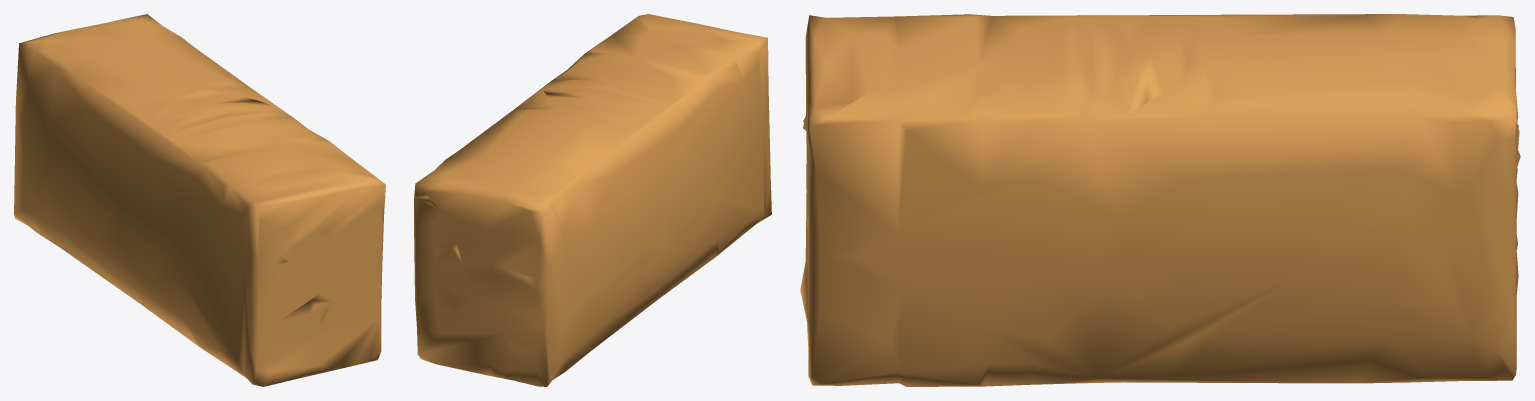
The model's file is rectangularCube1_6.dae.
3 views of the same model, side by side, from view 1: azimuth 30°, elevation 25°; view 2: azimuth 150°, elevation 25°; view 3: azimuth 270°, elevation 25° (orthographic). The views are drawn at different scales.
Parts seen in each view (by area): view 1: BlueSaltCube_800_tex_019; view 2: BlueSaltCube_800_tex_019; view 3: BlueSaltCube_800_tex_019.
Part boxes in pixels (x1,y1,x2,y2): BlueSaltCube_800_tex_019: (14, 14, 385, 386); BlueSaltCube_800_tex_019: (414, 14, 771, 386); BlueSaltCube_800_tex_019: (800, 14, 1520, 386).
Bounding box in the file's own units: 0.0366 × 0.0986 × 0.045.
